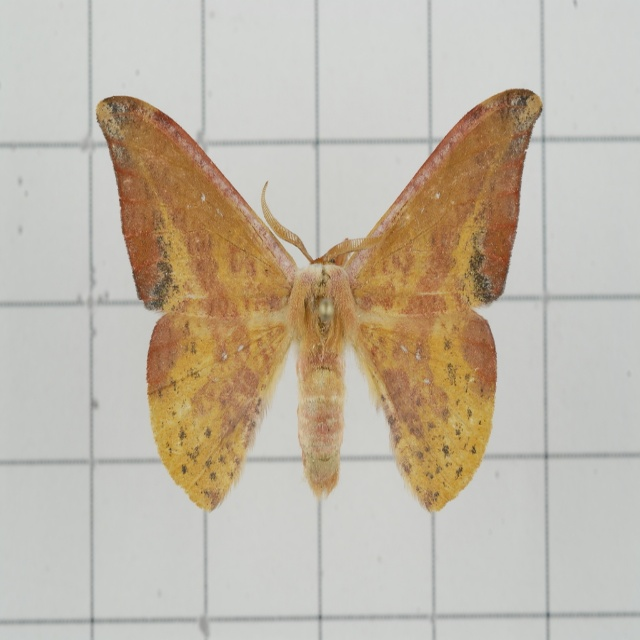Butterfly: (114, 92, 536, 547)
